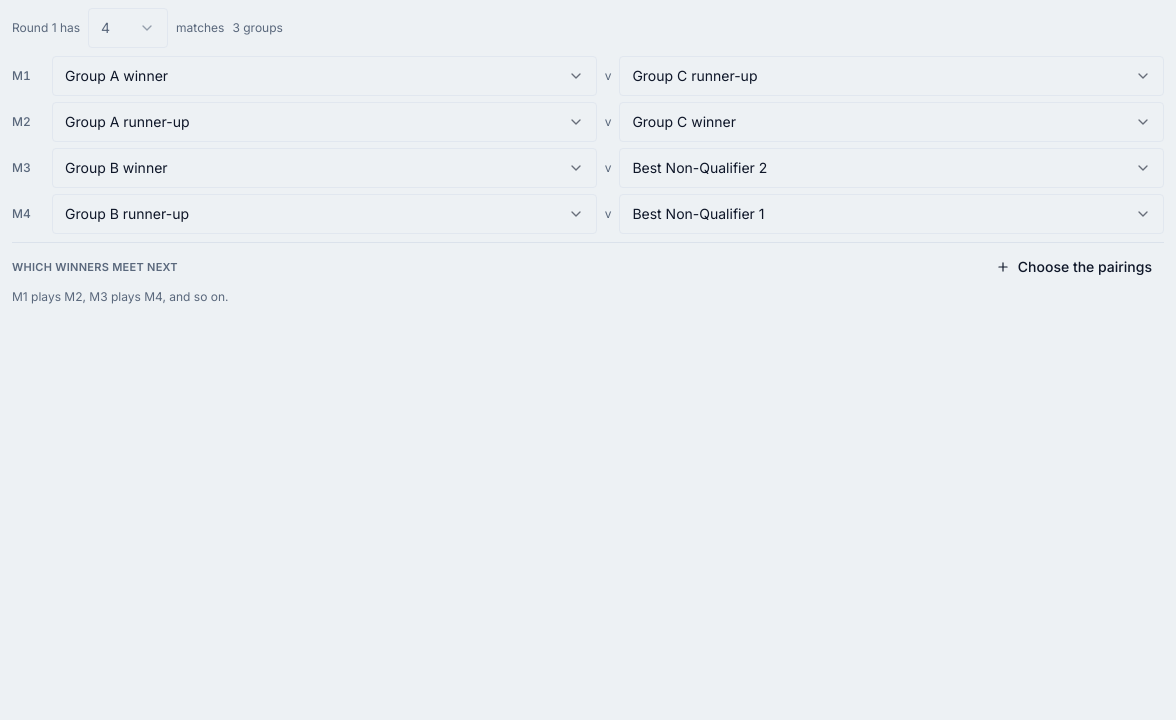
Test: BracketSheetEditor › lets the organizer seat a best loser against a group winner
The image size is (1176, 720).
Step 1. Click the button "Group C runner-up" → point(695, 76), box left=619, top=56, right=1164, bottom=96
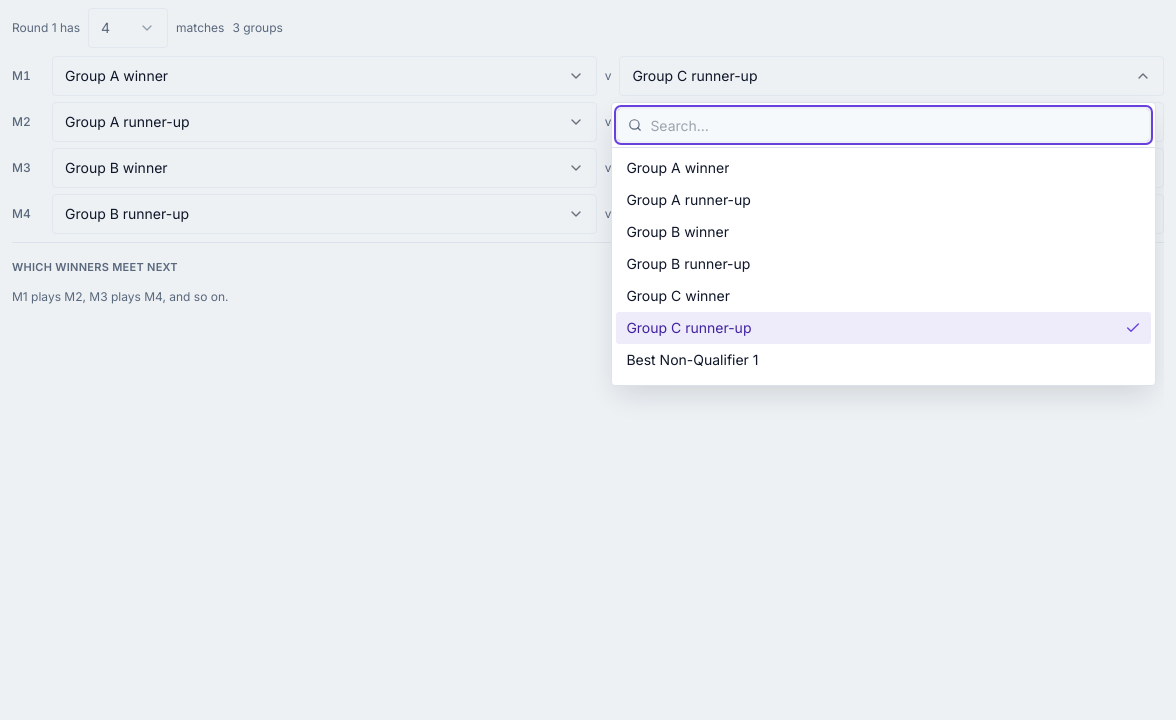
Step 2. Click the option "Best Non-Qualifier 1" → point(692, 360), box left=626, top=351, right=759, bottom=368
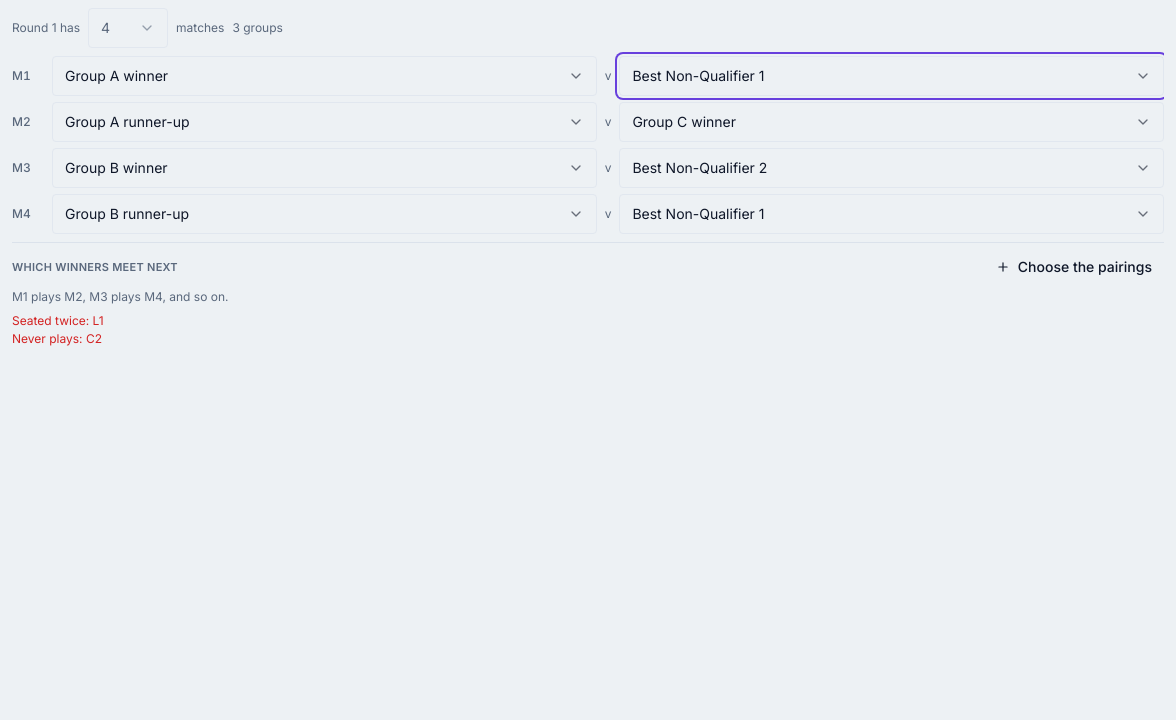
Step 3. Click the 2nd button "Best Non-Qualifier 1" → point(698, 214), box left=619, top=194, right=1164, bottom=234
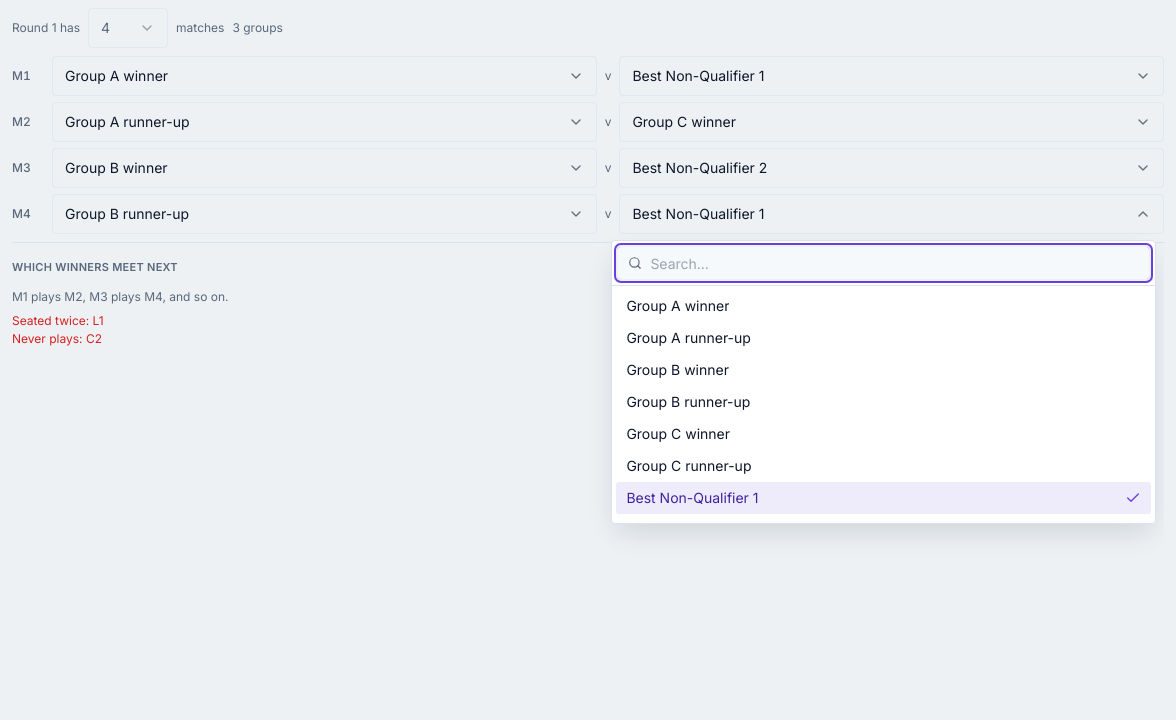
Step 4. Click the option "Group C runner-up" → point(689, 466), box left=626, top=457, right=752, bottom=474
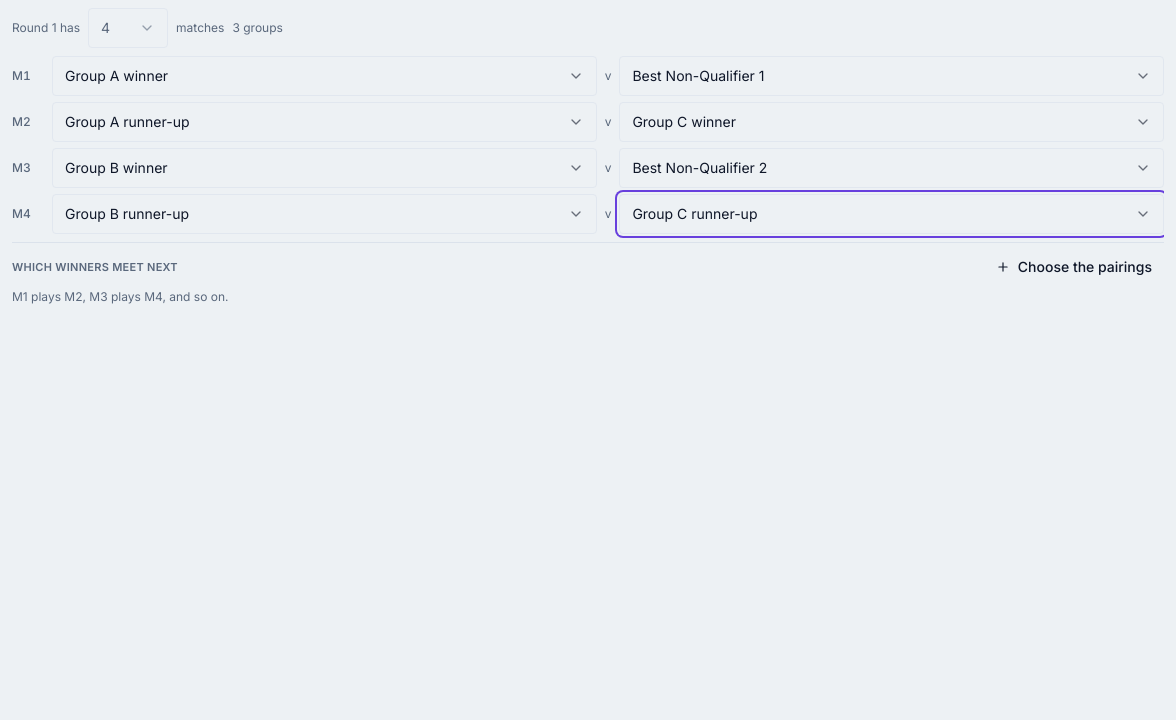
Now the list with test id "sheet-problems" is gone
